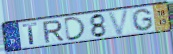8: (88, 12, 107, 39)
D: (63, 16, 88, 43)
G: (131, 8, 154, 32)
R: (42, 19, 66, 44)
T: (21, 22, 39, 46)
V: (106, 8, 131, 37)
